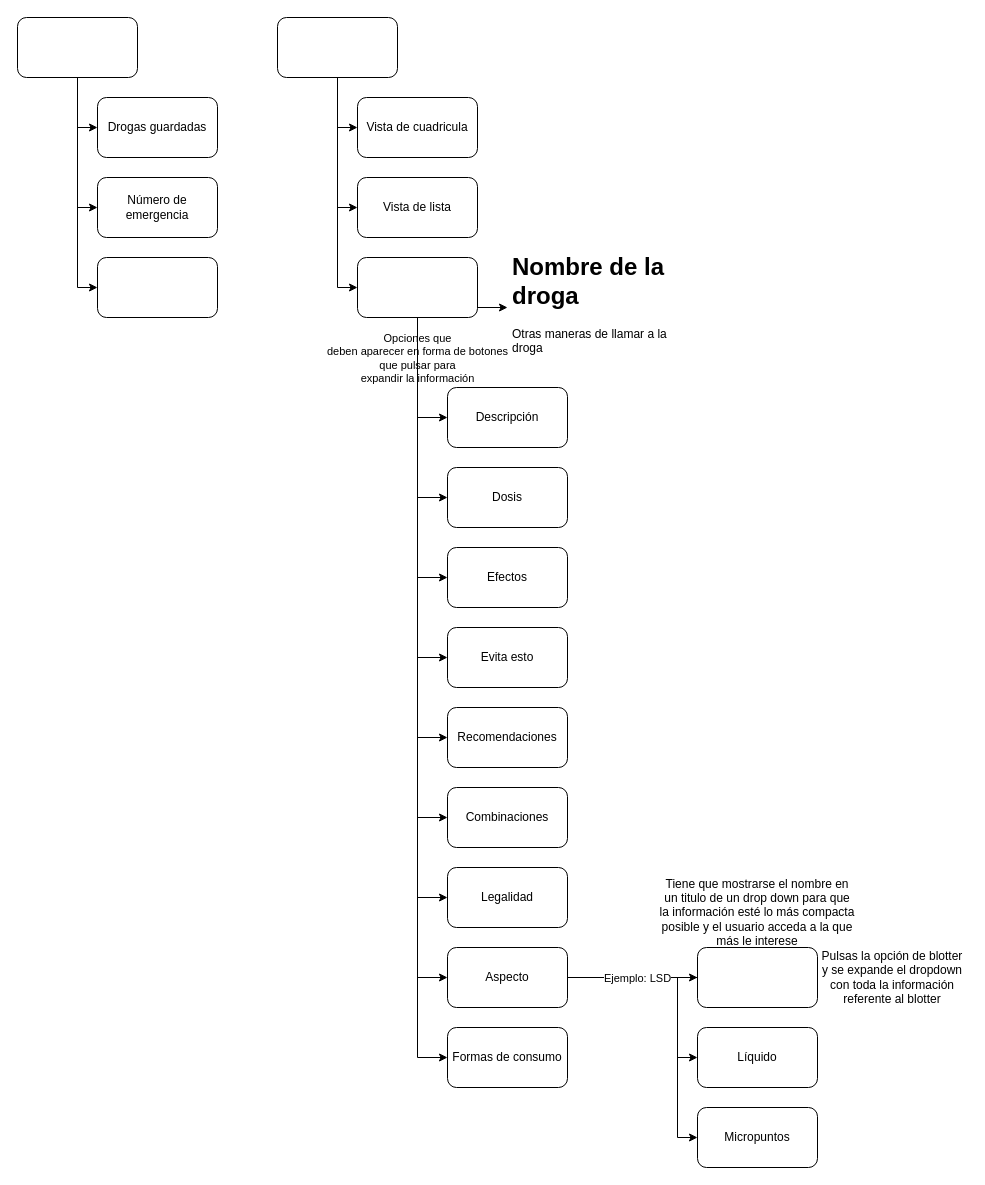
This 985x1185 diagram has some shape labels left out. The centre of each missing label's shape, as x and y in pixels:
"Blotter" belongs at point (757, 977).
"Droga" belongs at point (417, 287).
"Menu" belongs at point (77, 47).
"Pantalla principal" belongs at point (337, 47).
